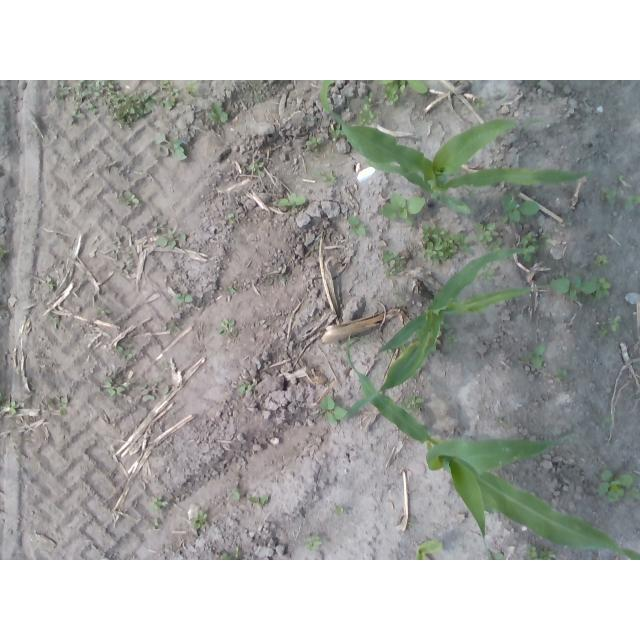Maize: (344, 332, 640, 561), (339, 245, 550, 422), (319, 80, 590, 216)
Weeds: (418, 222, 472, 264), (68, 80, 114, 125), (104, 91, 157, 130), (550, 274, 611, 303), (379, 191, 426, 227), (596, 469, 640, 503), (499, 193, 540, 224), (377, 80, 427, 105), (150, 221, 187, 248), (154, 131, 187, 161), (320, 395, 350, 427), (135, 376, 169, 404), (110, 236, 134, 273), (474, 221, 502, 252), (516, 230, 540, 262), (381, 249, 408, 276), (519, 343, 545, 369), (595, 315, 622, 338), (158, 80, 178, 110), (277, 192, 305, 213), (438, 320, 457, 350), (525, 542, 556, 560), (354, 104, 378, 127), (347, 215, 370, 237), (1, 391, 20, 417), (208, 101, 229, 123), (190, 509, 210, 531), (104, 377, 127, 396), (401, 395, 424, 414), (217, 319, 239, 338), (314, 168, 338, 184), (52, 80, 71, 100), (117, 189, 139, 205), (182, 80, 199, 100), (247, 161, 267, 178), (114, 344, 134, 361), (52, 396, 68, 417), (245, 81, 263, 99), (598, 185, 618, 201), (303, 534, 321, 551), (248, 493, 269, 507), (306, 137, 323, 154), (238, 379, 258, 393), (174, 292, 195, 305), (150, 496, 166, 513), (593, 253, 612, 267), (623, 192, 640, 207), (477, 267, 495, 281), (218, 548, 238, 560), (96, 305, 112, 319), (484, 549, 504, 560), (332, 504, 347, 517), (554, 366, 567, 380), (330, 123, 342, 138), (472, 96, 486, 108), (230, 488, 242, 501), (45, 275, 55, 289), (600, 416, 612, 427), (0, 246, 8, 261), (363, 92, 374, 102), (383, 348, 393, 359), (227, 285, 238, 293), (224, 213, 235, 220), (48, 316, 58, 323), (499, 416, 506, 426), (154, 520, 163, 527)
